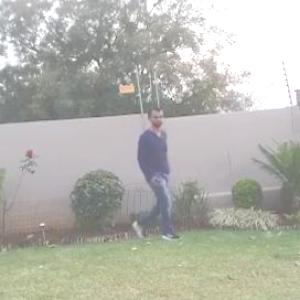follow: (125, 101, 176, 246)
